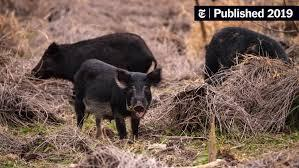wildboar: (74, 59, 163, 140), (30, 33, 158, 81)
